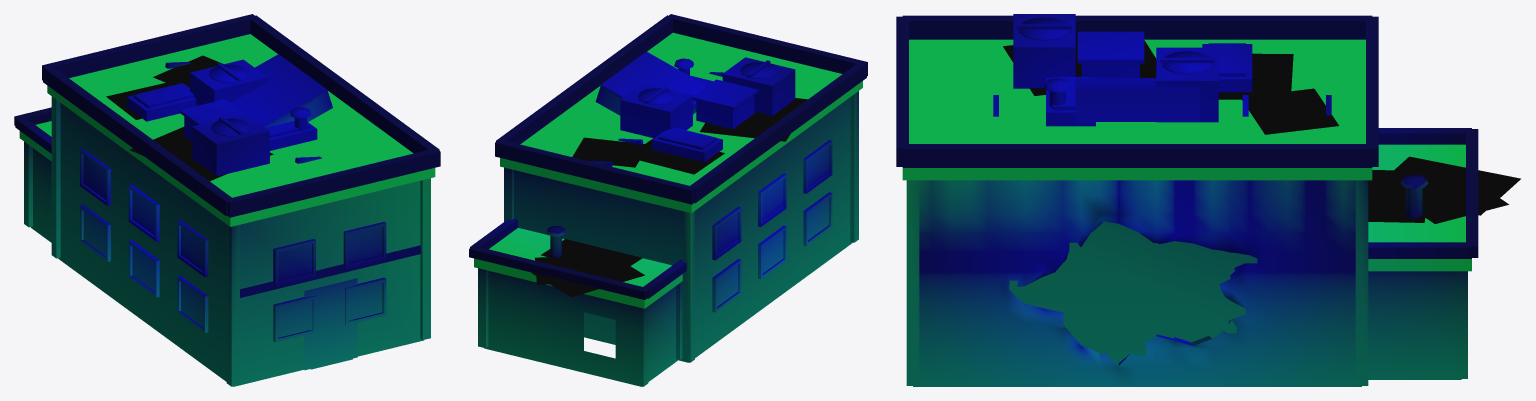
Rendered from 2storycivliving_damaged.glb.
3 renders of one model, left to right at view 1: azimuth 30°, elevation 25°; view 2: azimuth 150°, elevation 25°; view 3: azimuth 270°, elevation 25°, orthographic. The views are drawn at different scales.
Visible parts, largest first — view 1: lod0; view 2: lod0; view 3: lod0.
Boxes of the visible parts, x1,y1,x2,y2 form: lod0: (14, 14, 440, 386); lod0: (469, 14, 867, 386); lod0: (896, 14, 1520, 386).
Size of what is drawn, in the model's own units: 7.78 by 7.24 by 15.04.
